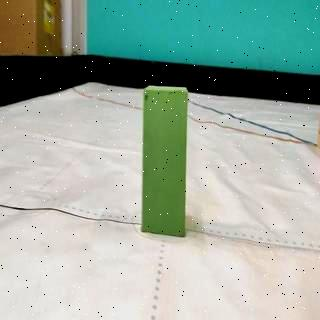greenbox: (142, 84, 188, 240)
